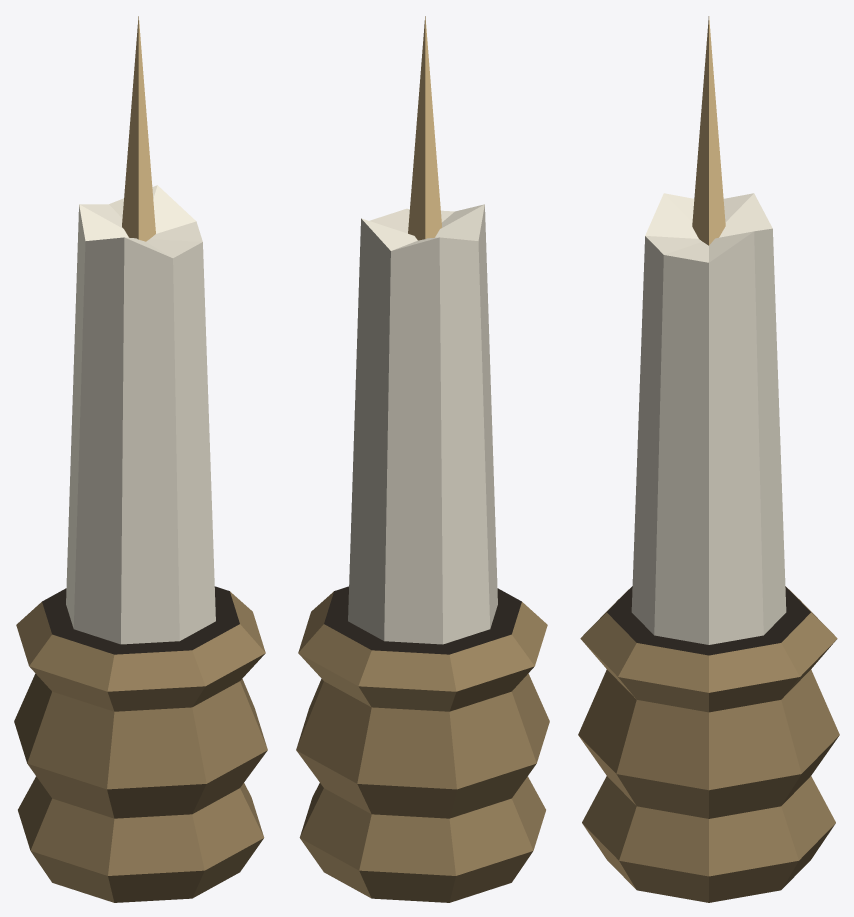
File: CandleStick_1.fbx
3 views of the same model, side by side, from view 1: azimuth 30°, elevation 25°; view 2: azimuth 150°, elevation 25°; view 3: azimuth 270°, elevation 25° (orthographic).
Parts seen in each view (by area): view 1: pCylinder172; view 2: pCylinder172; view 3: pCylinder172.
Boxes of the visible parts, box(x1,y1,x2,y2) form: pCylinder172: box(14, 16, 267, 902); pCylinder172: box(296, 16, 549, 902); pCylinder172: box(578, 16, 839, 902).
Size of the model in its own units: 16.66 by 59.28 by 16.66.
